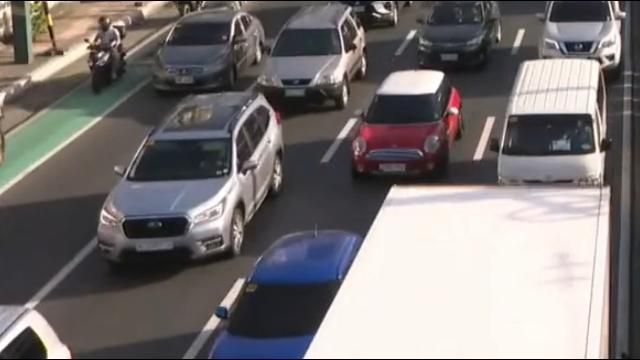car: (100, 91, 287, 268), (204, 225, 374, 360), (351, 68, 463, 179), (259, 6, 363, 110), (148, 11, 266, 94), (532, 3, 625, 76), (412, 0, 504, 68), (0, 302, 78, 360), (341, 1, 403, 30)
motorcycle: (86, 15, 127, 95)
truck: (299, 182, 616, 360)
van: (500, 57, 606, 187)
